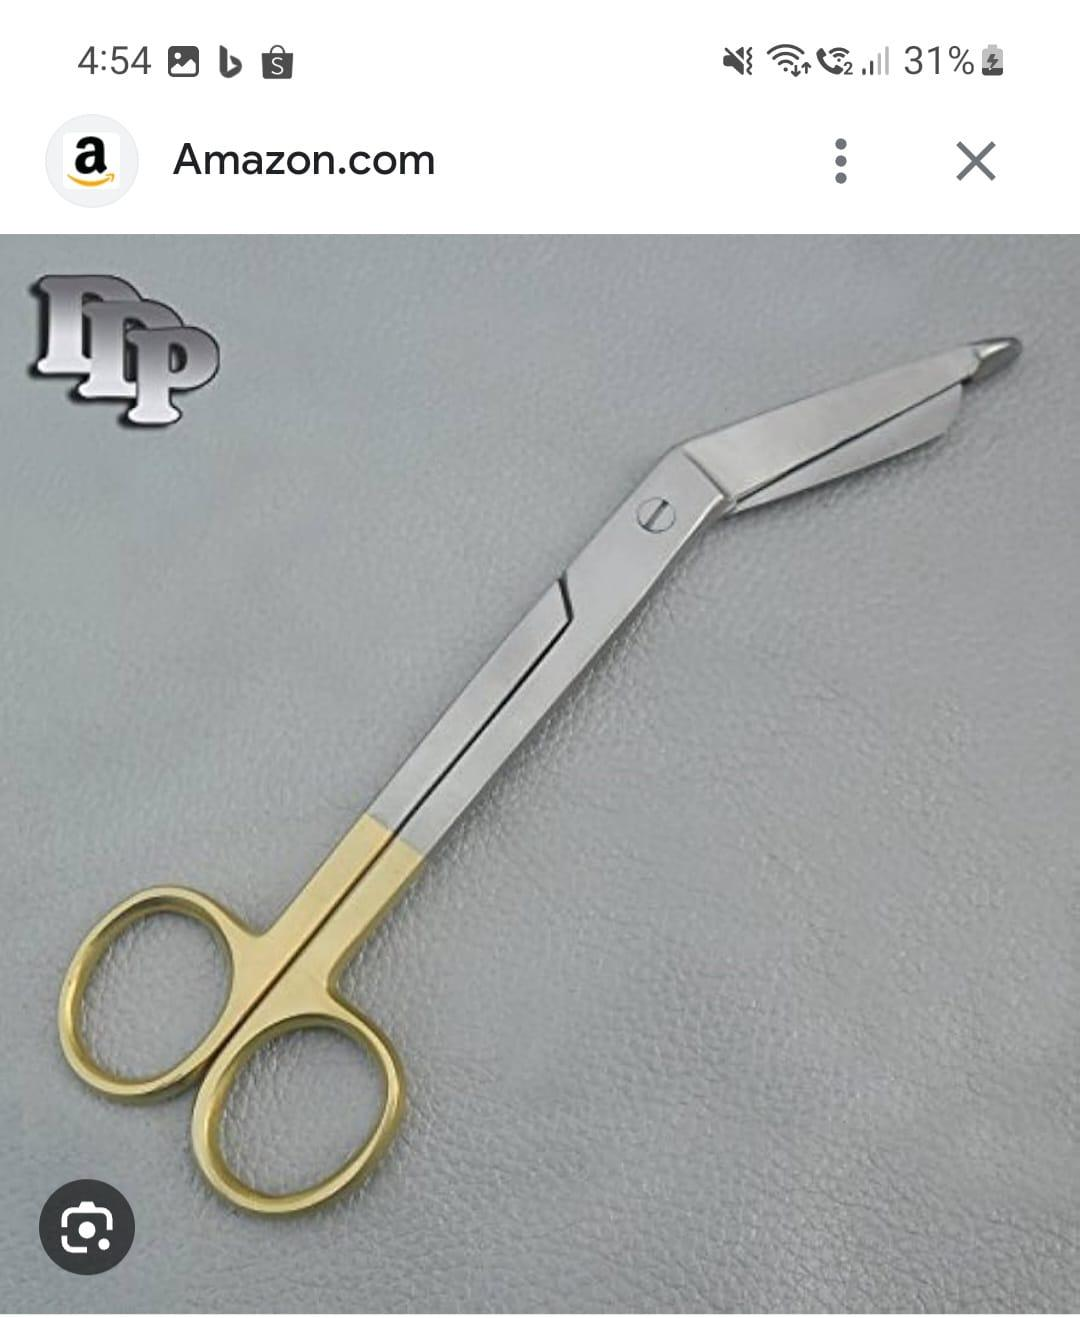Bandage Sciccors: (53, 336, 1036, 1230)
